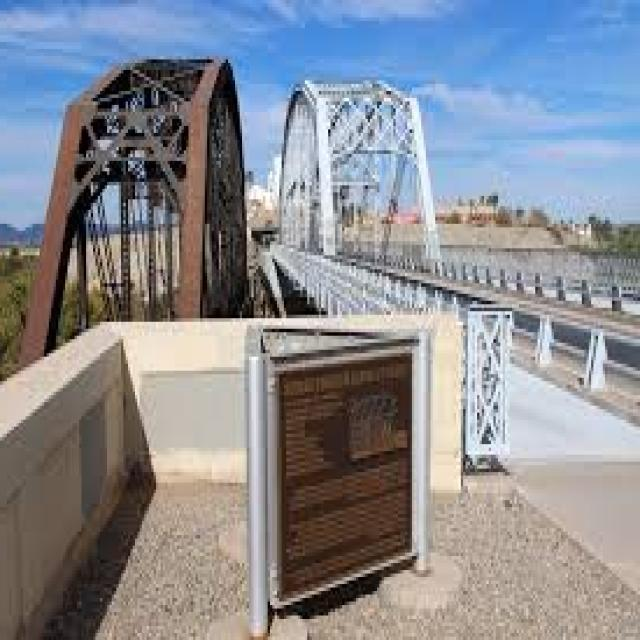Bridges: (43, 43, 629, 530)
